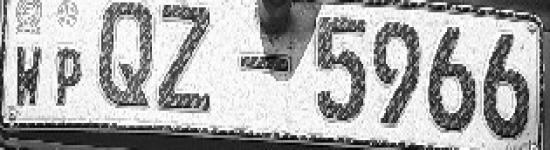-: (239, 46, 295, 83)
5: (312, 5, 370, 133)
6: (423, 16, 478, 143), (477, 26, 532, 141)
9: (368, 14, 424, 136)
P: (53, 44, 85, 112)
Q: (89, 2, 157, 116)
W: (15, 40, 44, 111)
Z: (158, 0, 215, 122)
